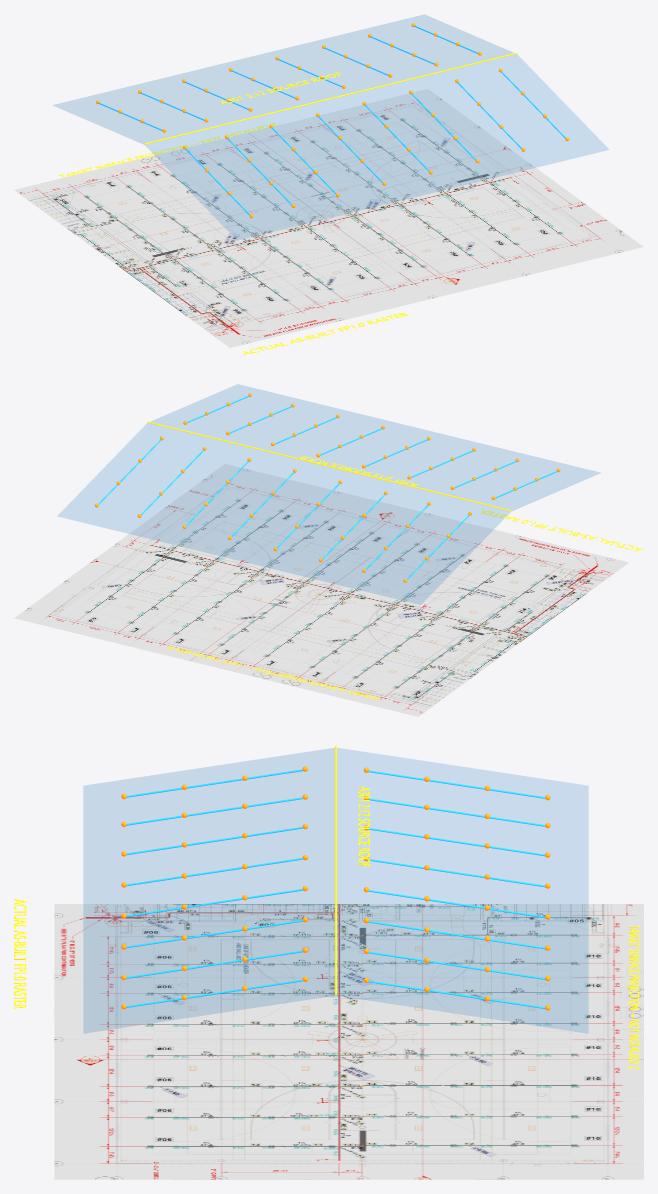
File: bgc-source-registered-3d.glb
3 views of the same model, one above another, from view 1: azimuth 30°, elevation 25°; view 2: azimuth 150°, elevation 25°; view 3: azimuth 270°, elevation 25° (orthographic). The views are drawn at different scales.
Parts seen in each view (by area): view 1: ACTUAL_AS_BUILT_FP1_0_UNDERLAY, SOURCE_A301_ROOF_SURFACES, A301_RIDGE_132_5_1_2, Text.002, Text; view 2: ACTUAL_AS_BUILT_FP1_0_UNDERLAY, SOURCE_A301_ROOF_SURFACES, A301_RIDGE_132_5_1_2, Text.002; view 3: ACTUAL_AS_BUILT_FP1_0_UNDERLAY, SOURCE_A301_ROOF_SURFACES, Text.002, Text.
Boxes of the visible parts, x1,y1,x2,y2 form: ACTUAL_AS_BUILT_FP1_0_UNDERLAY: [14, 89, 643, 347]; SOURCE_A301_ROOF_SURFACES: [53, 14, 608, 240]; A301_RIDGE_132_5_1_2: [144, 52, 517, 144]; Text.002: [59, 122, 278, 177]; Text: [243, 312, 409, 355]; ACTUAL_AS_BUILT_FP1_0_UNDERLAY: [14, 464, 628, 716]; SOURCE_A301_ROOF_SURFACES: [58, 384, 599, 604]; A301_RIDGE_132_5_1_2: [147, 421, 511, 511]; Text.002: [167, 646, 379, 700]; ACTUAL_AS_BUILT_FP1_0_UNDERLAY: [54, 904, 643, 1179]; SOURCE_A301_ROOF_SURFACES: [83, 748, 588, 1033]; Text.002: [626, 925, 639, 1069]; Text: [14, 899, 26, 1008].
Size of the model in its own units: 116 by 36.44 by 112.
5 materials, 1 textured.
